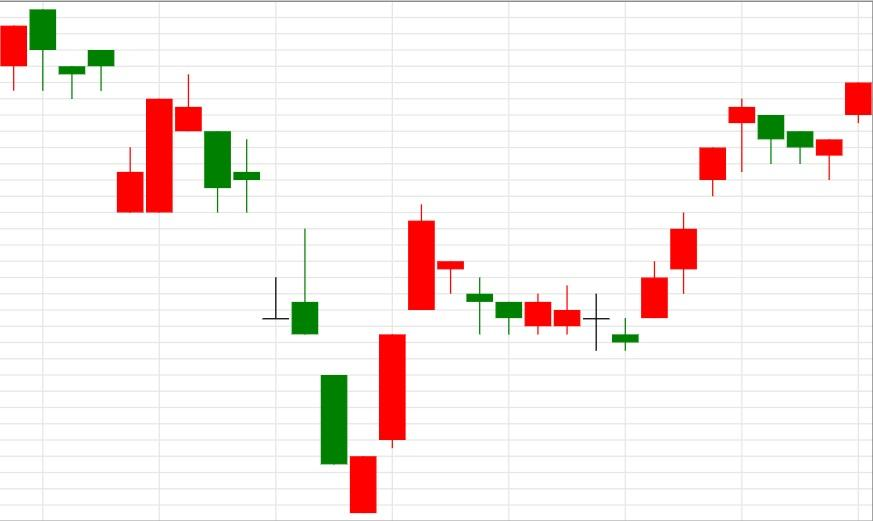hanging_man_fall: (612, 98, 755, 350)
three_white_soldiers_rise: (175, 75, 436, 513)
